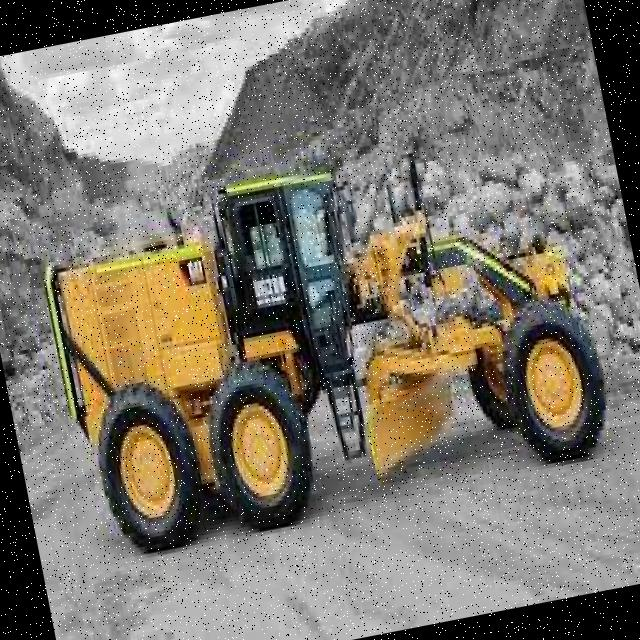Grader: (5, 69, 624, 594)
